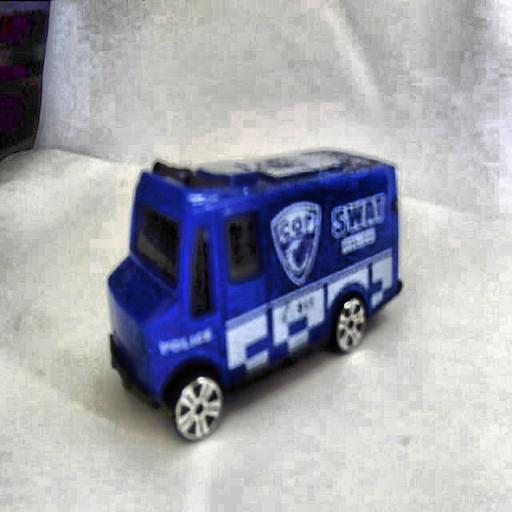police car: (106, 140, 403, 438)
